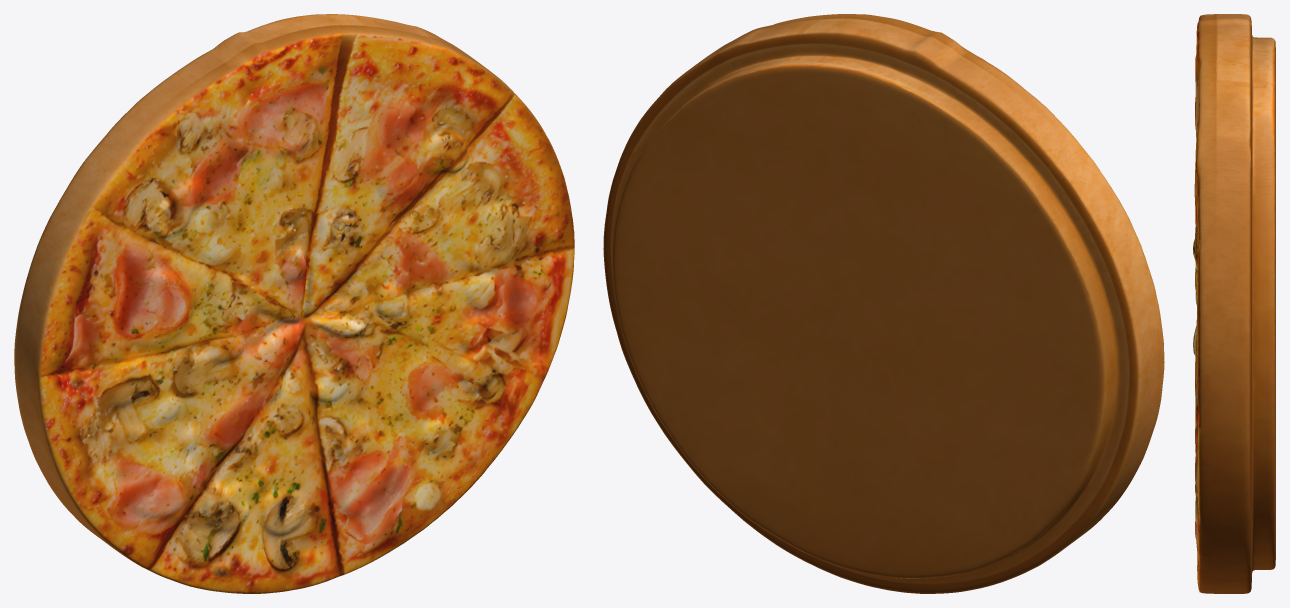
Rendered from pizza.glb.
The picture shows the model from 3 angles, left to right: view 1: azimuth 30°, elevation 25°; view 2: azimuth 150°, elevation 25°; view 3: azimuth 270°, elevation 25°; orthographic projection. The views are drawn at different scales.
Visible parts, largest first — view 1: tripo_node_3278f9ee-b864-44ec-9e7e-618b3f72dc3f; view 2: tripo_node_3278f9ee-b864-44ec-9e7e-618b3f72dc3f; view 3: tripo_node_3278f9ee-b864-44ec-9e7e-618b3f72dc3f.
Part boxes in pixels (box(x1,y1,x2,y2)): tripo_node_3278f9ee-b864-44ec-9e7e-618b3f72dc3f: box(14, 14, 574, 593); tripo_node_3278f9ee-b864-44ec-9e7e-618b3f72dc3f: box(603, 14, 1164, 593); tripo_node_3278f9ee-b864-44ec-9e7e-618b3f72dc3f: box(1193, 14, 1275, 593).
Size of the model in its own units: 0.9996 by 0.9796 by 0.1391.
Materials: 1 (1 with a texture image).
